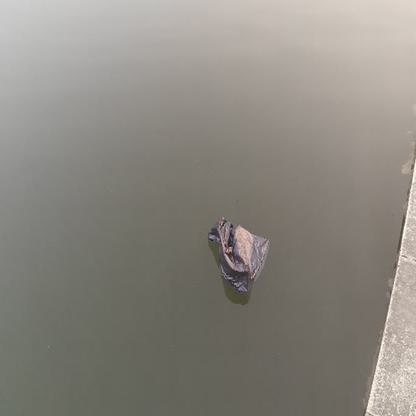plastic bag: (209, 220, 269, 302)
